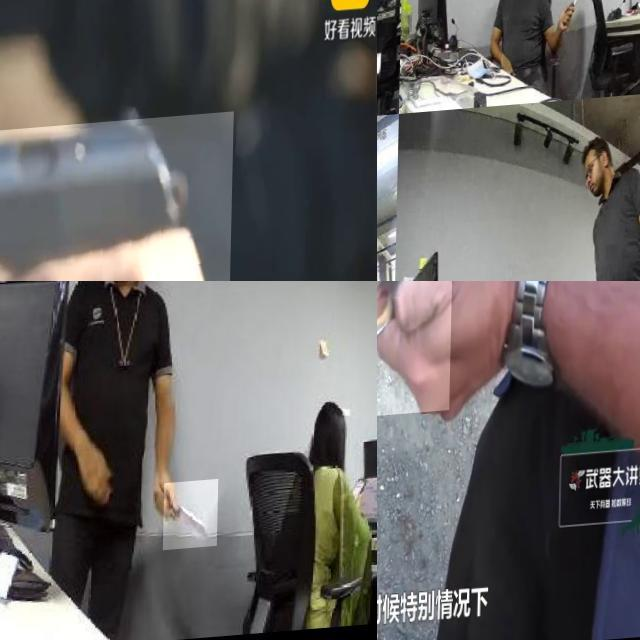-: (165, 484, 221, 556), (567, 0, 586, 23), (377, 77, 392, 97)
gun-knife-thesis - v11 Yolov5 augmented: (0, 119, 234, 281), (377, 281, 511, 433)
